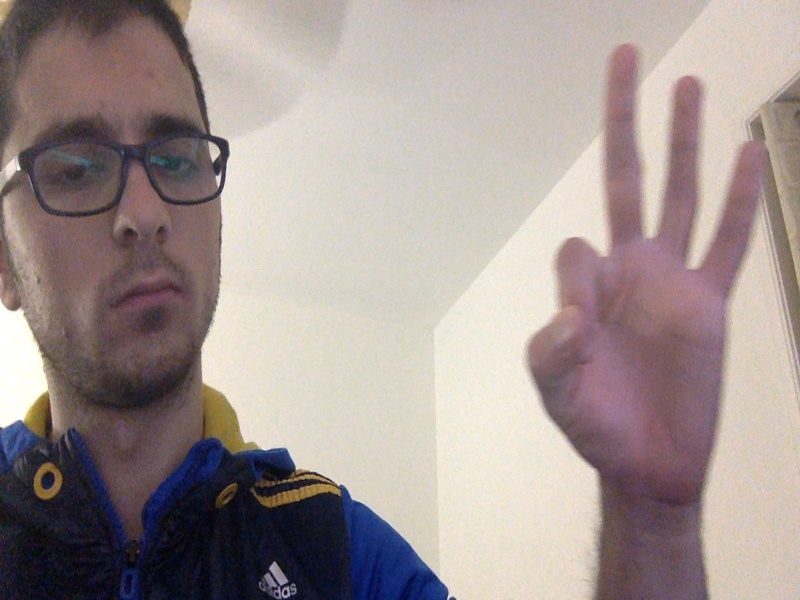3-hand: (525, 45, 767, 496)
